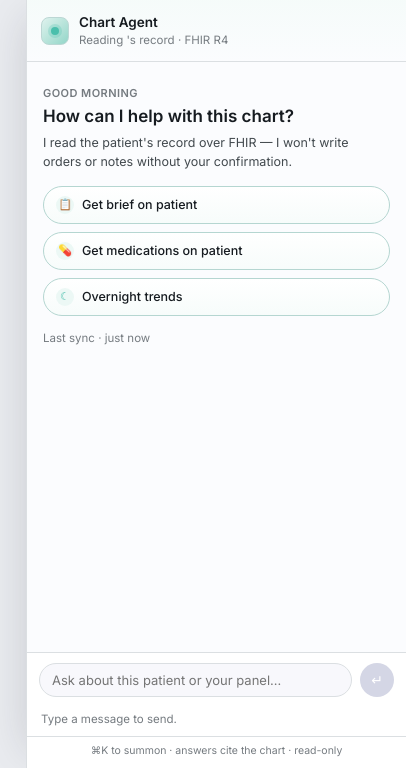
Test case: AgentPanel composer placeholder + Send button (issue 043) › Send button enables once the draft has content (AC5)
In the 2nd field with test id "agent-input": [196, 680] box [39, 663, 352, 697], type "hello"
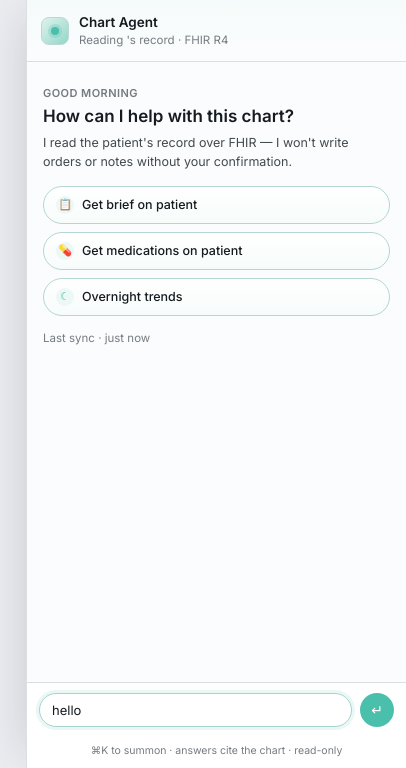
Now the button with test id "agent-send" is enabled, box [360, 693, 394, 727]
